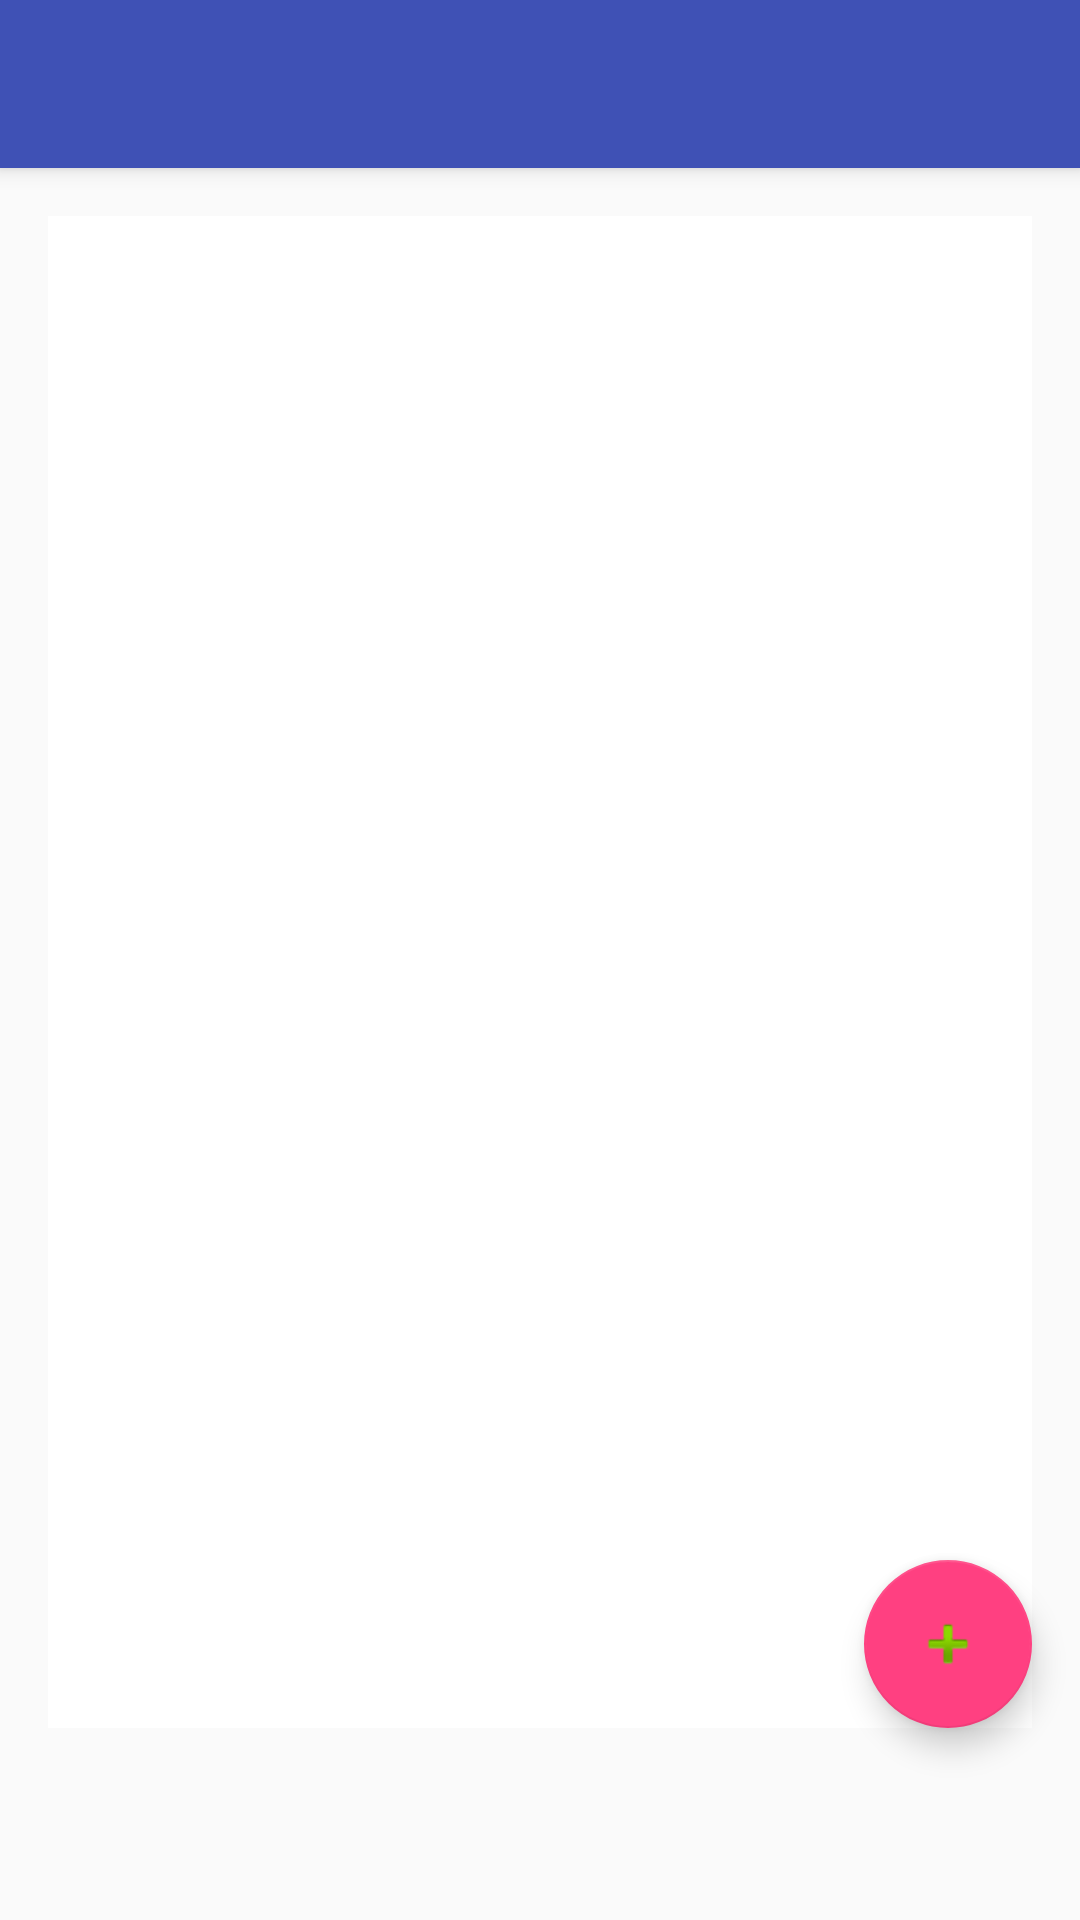

Point at icon controls on the screen. Image size 1080*1920, points as (x=x, y=y).
add: (x=948, y=1644)
